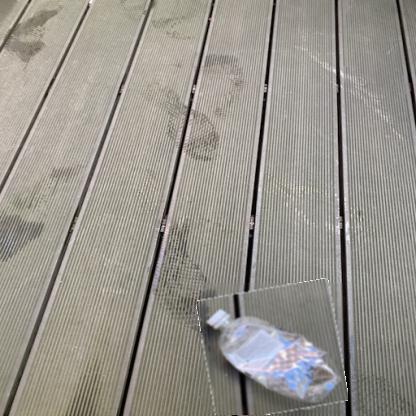plastic-bottles: (202, 284, 346, 416)
